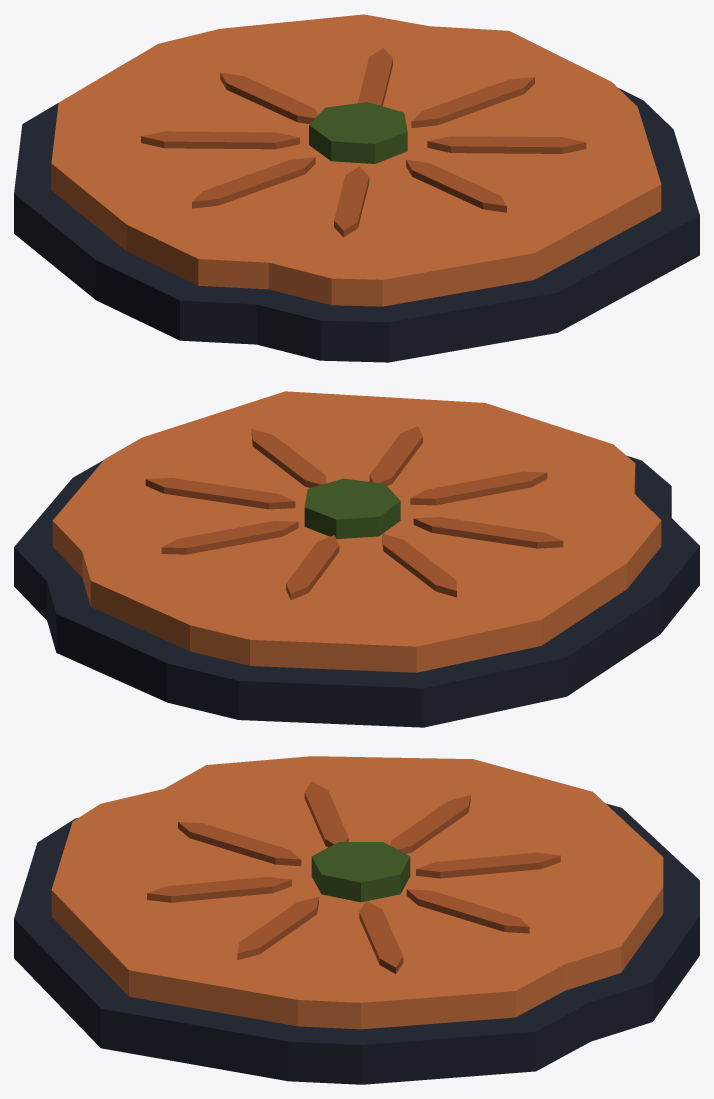
The model's file is pumpkin.fbx.
3 views of the same model, one above another, from view 1: azimuth 30°, elevation 25°; view 2: azimuth 150°, elevation 25°; view 3: azimuth 270°, elevation 25° (orthographic). The views are drawn at different scales.
Parts seen in each view (by area): view 1: pumpkin; view 2: pumpkin; view 3: pumpkin.
Boxes of the visible parts, x1,y1,x2,y2 form: pumpkin: (14, 14, 699, 362); pumpkin: (14, 391, 699, 727); pumpkin: (14, 756, 699, 1084).
Size of the model in its own units: 0.8988 by 0.13 by 0.9378.
Materials: 1 (1 with a texture image).
